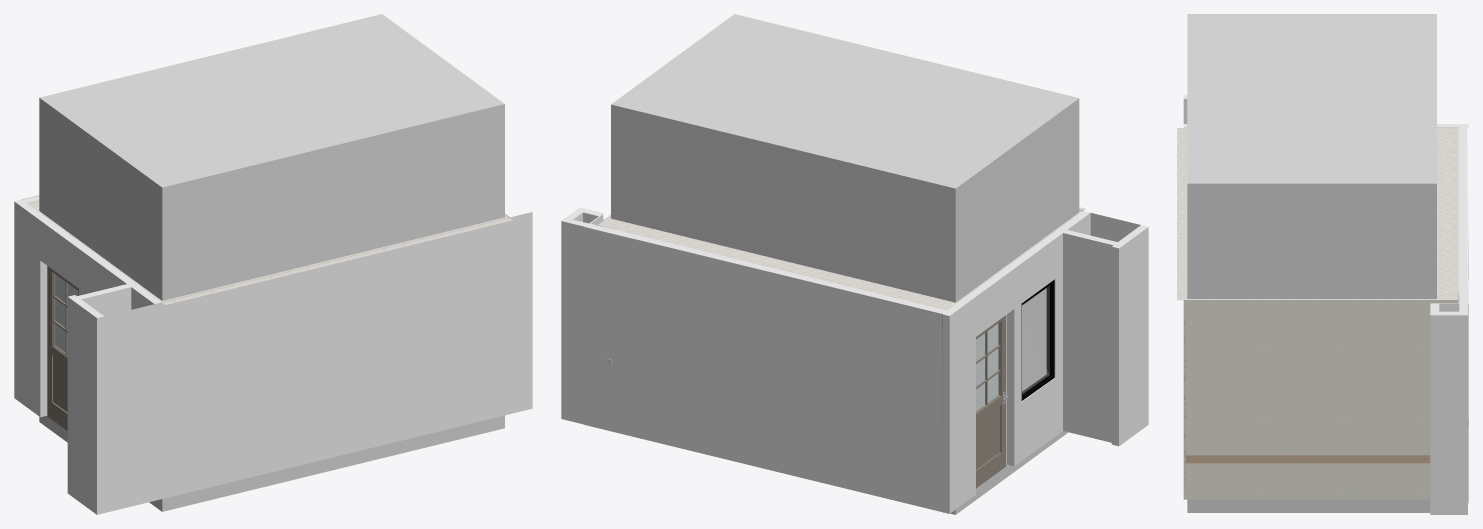
File: breakout_room_b.glb
3 renders of one model, left to right at view 1: azimuth 30°, elevation 25°; view 2: azimuth 150°, elevation 25°; view 3: azimuth 270°, elevation 25°, orthographic.
Parts seen in each view (by area): view 1: room_walls, available_moving_area, Mesh9073 Deur_met_glas_1_1 G_2025_0618_Schoolhouse_com_dwg1 , breakroom_ceiling; view 2: room_walls, available_moving_area, Mesh9073 Deur_met_glas_1_1 G_2025_0618_Schoolhouse_com_dwg1 , breakroom_ceiling, Mesh8708 RS_Sidelight___GLAZING_G1_9061200__3D_1 G_2025_0618; view 3: available_moving_area, room_walls, breakroom_ceiling, Mesh1326 Group1390 Model, Mesh521 Group604 Model.
Boxes of the visible parts, x1,y1,x2,y2 form: room_walls: [14, 195, 532, 514]; available_moving_area: [39, 14, 504, 511]; Mesh9073 Deur_met_glas_1_1 G_2025_0618_Schoolhouse_com_dwg1 : [47, 266, 78, 430]; breakroom_ceiling: [27, 200, 512, 304]; room_walls: [561, 207, 1148, 513]; available_moving_area: [611, 14, 1079, 514]; Mesh9073 Deur_met_glas_1_1 G_2025_0618_Schoolhouse_com_dwg1 : [976, 315, 1005, 488]; breakroom_ceiling: [598, 207, 1085, 310]; Mesh8708 RS_Sidelight___GLAZING_G1_9061200__3D_1 G_2025_0618: [1021, 279, 1054, 400]; available_moving_area: [1187, 14, 1436, 512]; room_walls: [1183, 95, 1468, 514]; breakroom_ceiling: [1177, 128, 1458, 300]; Mesh1326 Group1390 Model: [1185, 455, 1430, 463]; Mesh521 Group604 Model: [1183, 318, 1185, 489].
Size of what is drawn, in the model's own units: 287 by 200 by 161.
Materials: 59 (30 with a texture image).
